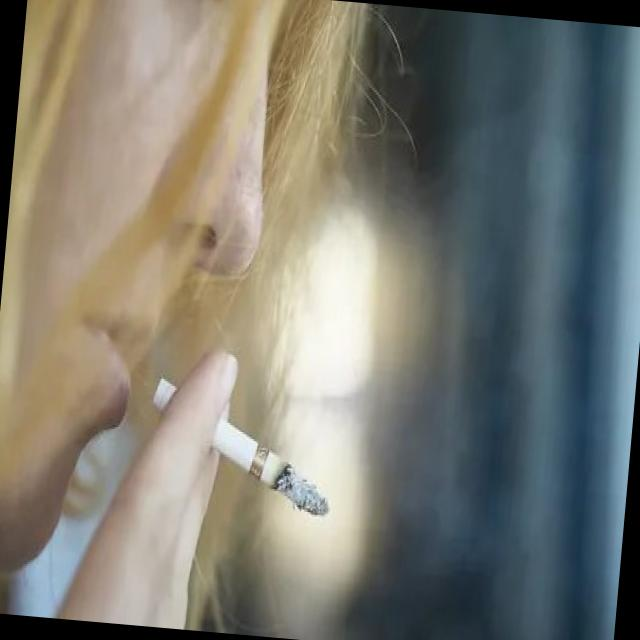cigarette: (138, 370, 344, 530)
